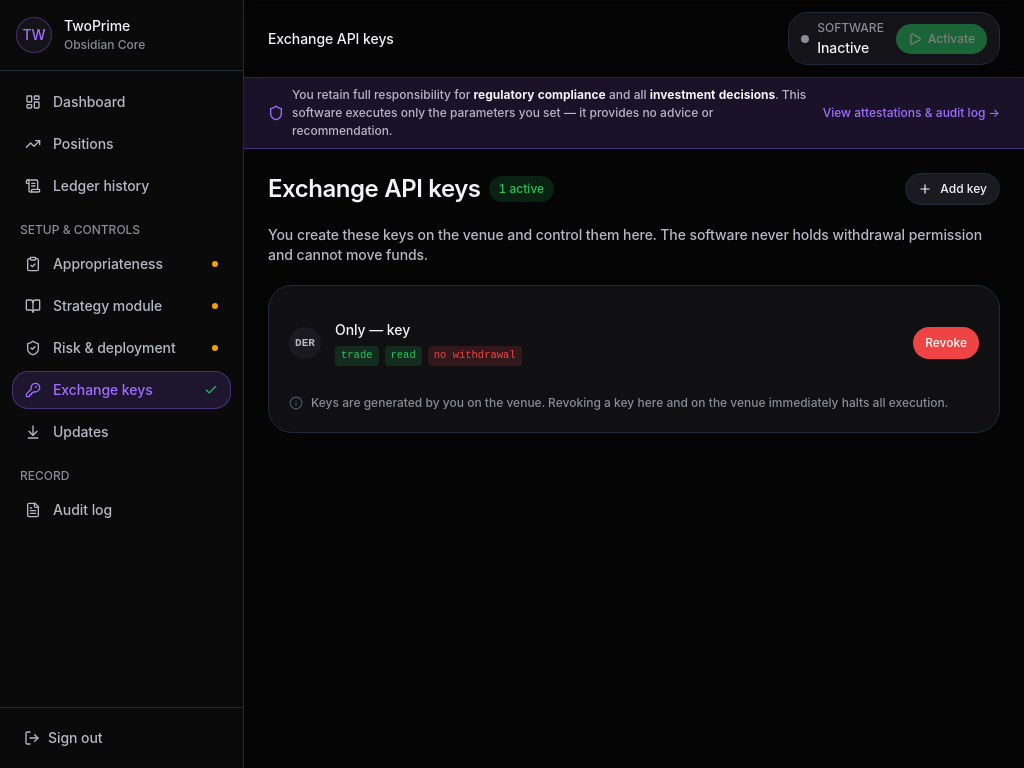
Test: ClientPortalShell › shows an error banner and keeps the key when the revoke fails
Click the button "Revoke" at (946, 343), box [913, 327, 979, 359]
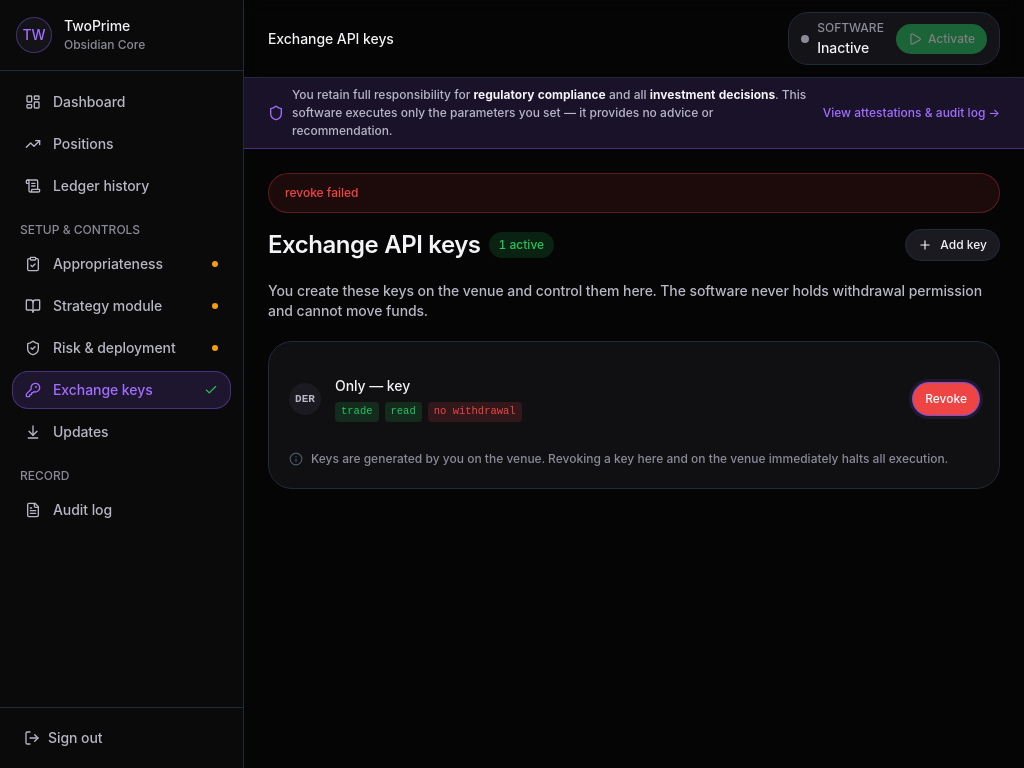
Expected: the text "Only — key" is shown, [335, 377, 410, 394]
Expected: the text "revoke failed" is shown, [268, 173, 1000, 213]
